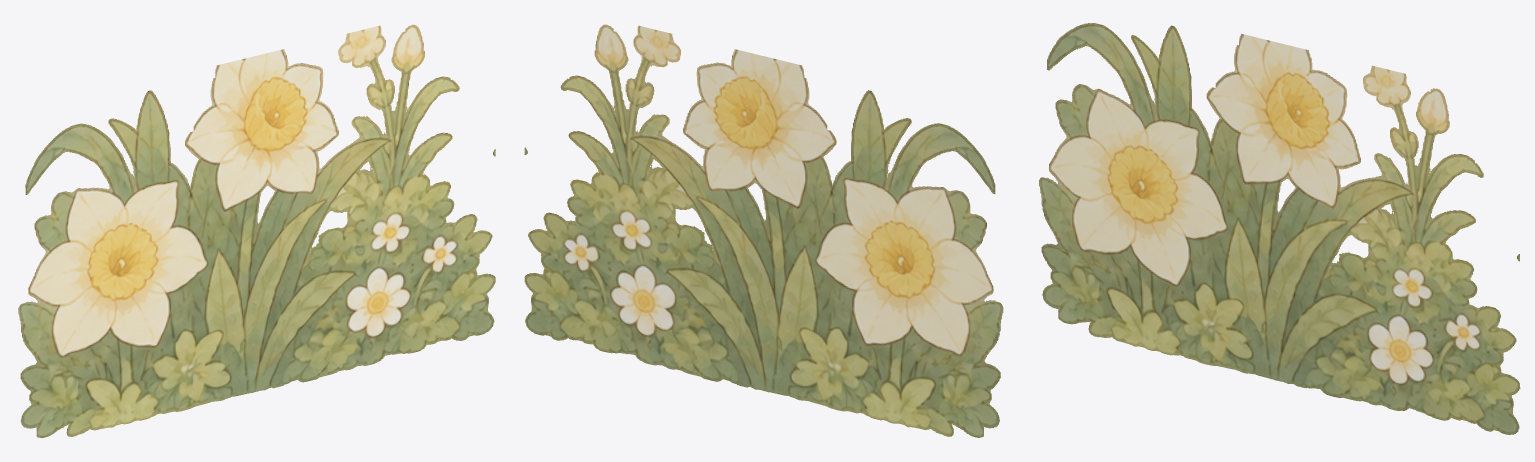
Rendered from garden_flowers_left.glb.
The picture shows the model from 3 angles, left to right: view 1: azimuth 30°, elevation 25°; view 2: azimuth 150°, elevation 25°; view 3: azimuth 330°, elevation 25°; orthographic projection.
Visible parts, largest first — view 1: flowers_left / painted relief; view 2: flowers_left / painted relief; view 3: flowers_left / painted relief.
Part boxes in pixels (x1,y1,x2,y2): flowers_left / painted relief: [18, 24, 495, 437]; flowers_left / painted relief: [524, 24, 1003, 437]; flowers_left / painted relief: [1039, 23, 1520, 434].
Bounding box in the file's own units: 9.58 × 6.53 × 0.08.
Materials: 1 (1 with a texture image).
